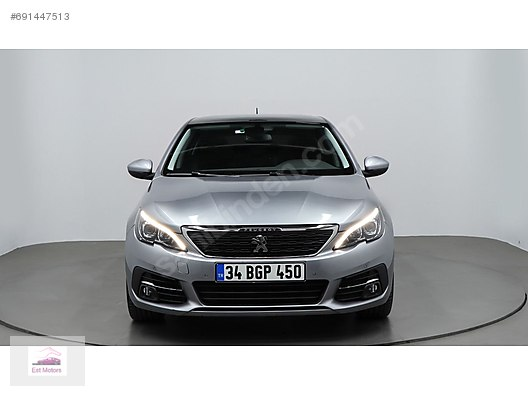peugeot: (113, 108, 404, 325)
